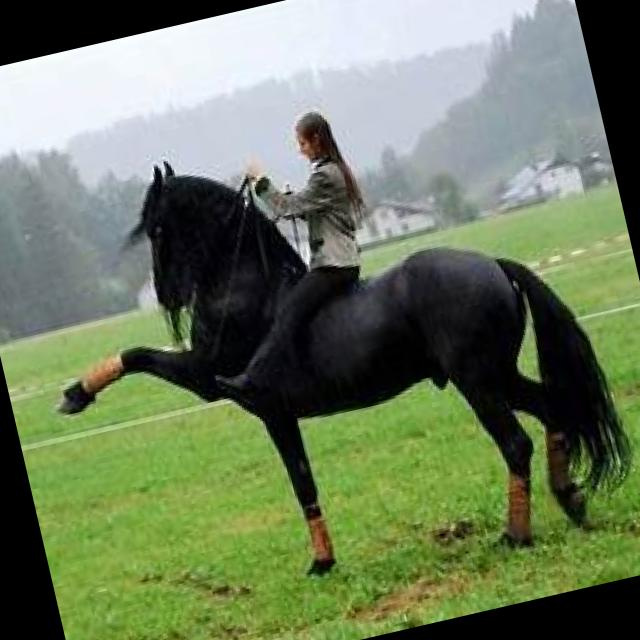animal: (4, 68, 640, 640)
